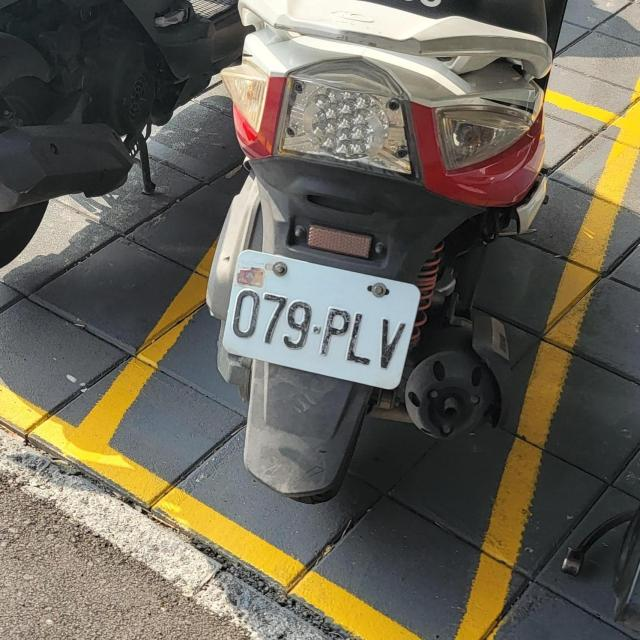W: (220, 247, 424, 390)
